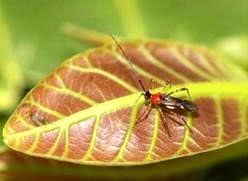Helopeltis-insect: (142, 86, 199, 119)
